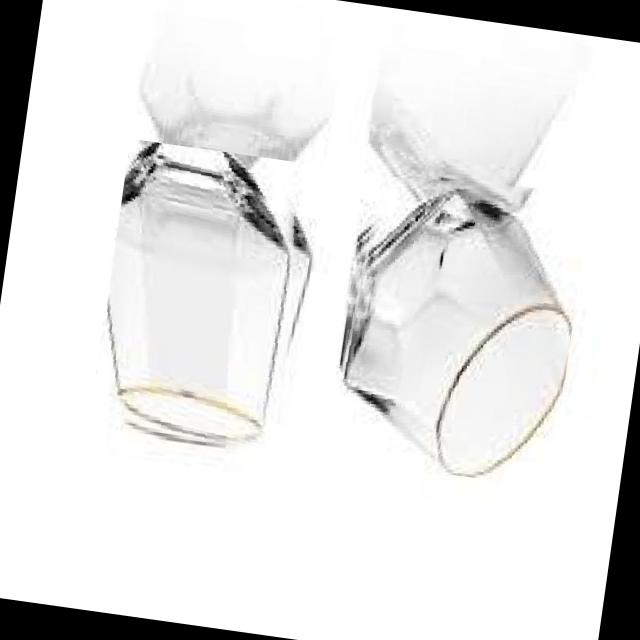Glass: (323, 158, 591, 488), (89, 137, 328, 458)
